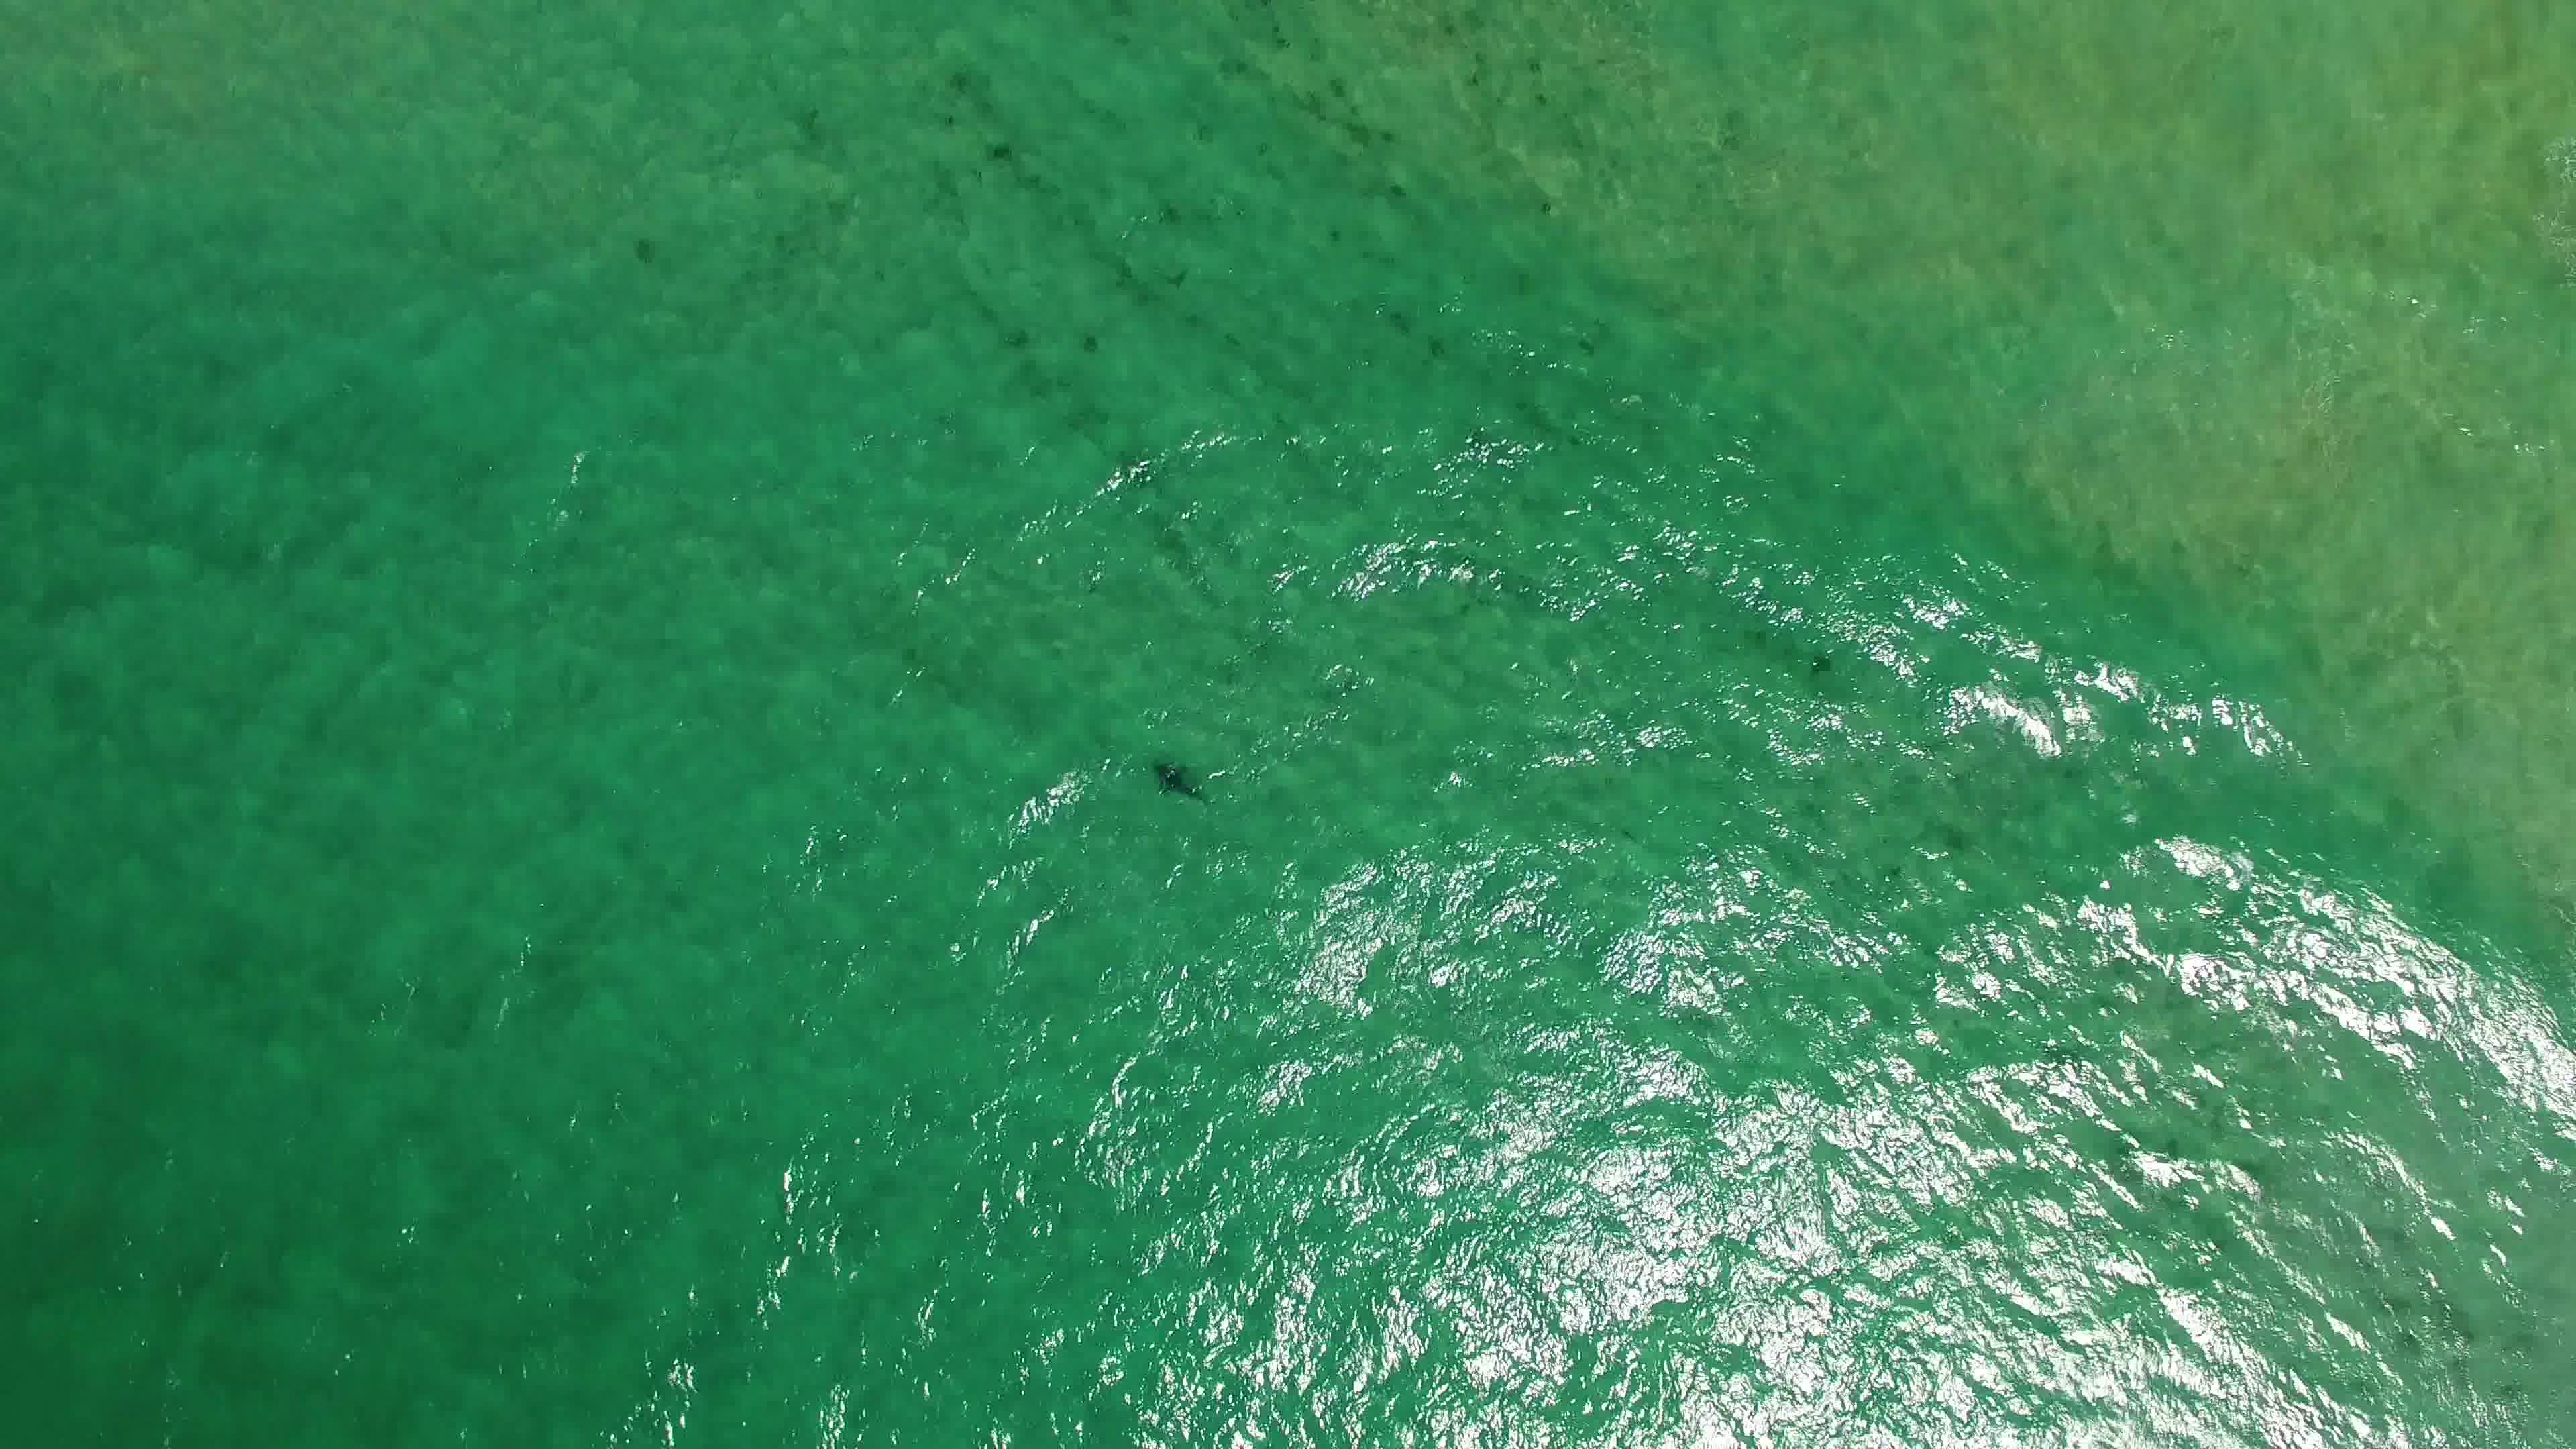shark: (1150, 757, 1215, 810)
